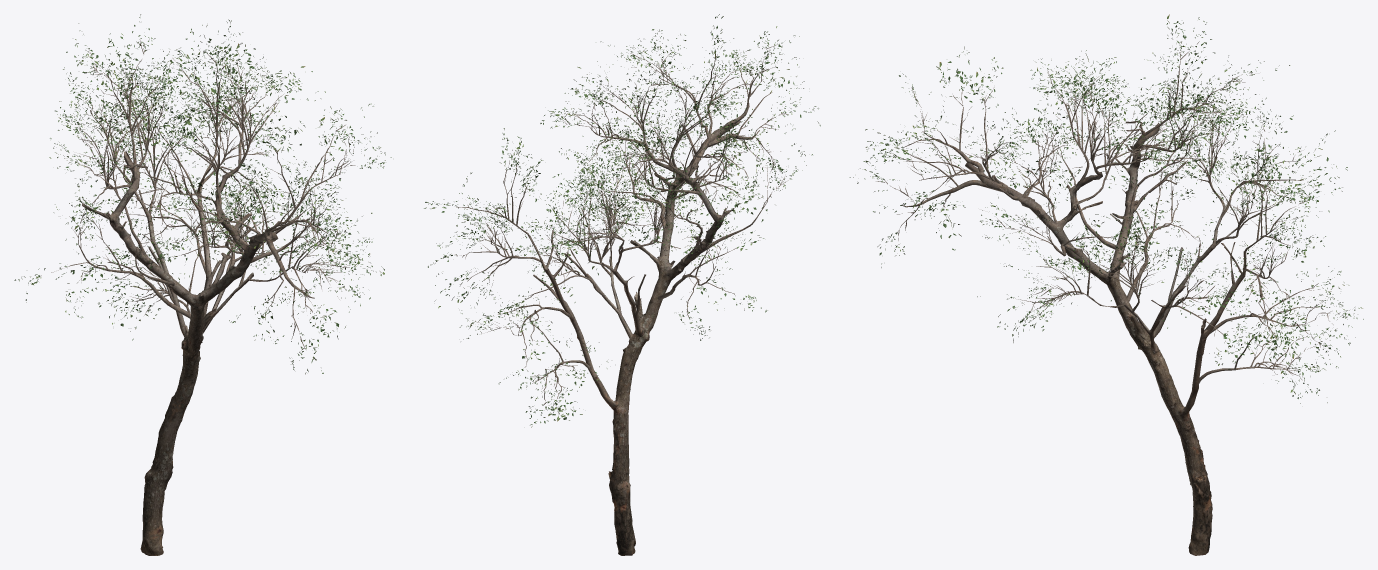
The model's file is tree_small_02.glb.
3 renders of one model, left to right at view 1: azimuth 30°, elevation 25°; view 2: azimuth 150°, elevation 25°; view 3: azimuth 270°, elevation 25°, orthographic. The views are drawn at different scales.
Visible parts, largest first — view 1: tree_small_02_LOD0; view 2: tree_small_02_LOD0; view 3: tree_small_02_LOD0.
Boxes of the visible parts, x1,y1,x2,y2 form: tree_small_02_LOD0: (14,14,391,555); tree_small_02_LOD0: (424,14,820,555); tree_small_02_LOD0: (849,14,1363,555).
Bounding box in the file's own units: 2.87 × 4.54 × 4.23.
3 materials, 3 textured.
